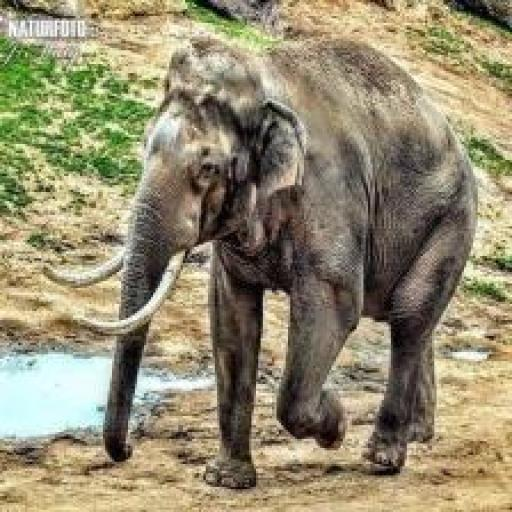Elephant: (43, 38, 476, 489)
